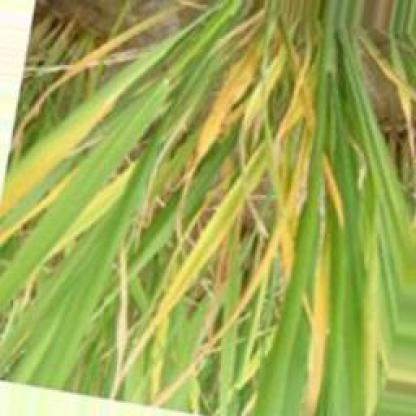Tungro: (121, 143, 289, 369), (183, 6, 320, 146), (4, 73, 116, 219), (32, 146, 143, 278), (300, 213, 338, 416), (352, 40, 416, 130), (149, 367, 199, 409), (315, 161, 344, 227)
